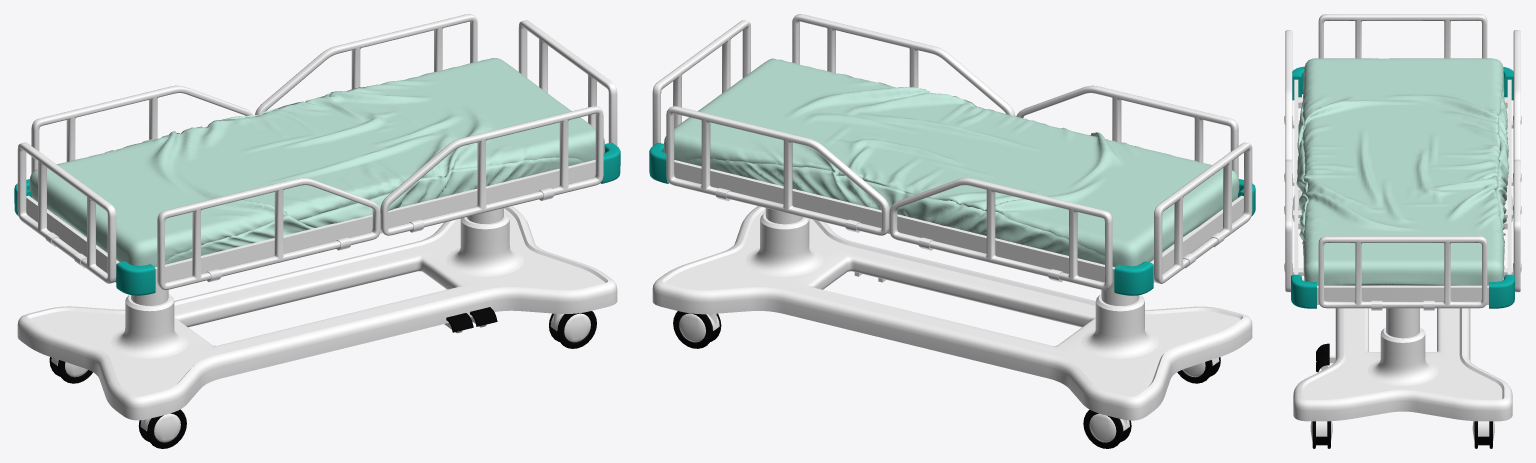
Rendered from hospital_bed_carlos.glb.
3 renders of one model, left to right at view 1: azimuth 30°, elevation 25°; view 2: azimuth 150°, elevation 25°; view 3: azimuth 270°, elevation 25°, orthographic. The views are drawn at different scales.
Visible parts, largest first — view 1: Object_8, Object_4, Object_14, Object_10, Object_18, Object_6, Object_16; view 2: Object_8, Object_4, Object_14, Object_18, Object_10, Object_6, Object_16; view 3: Object_8, Object_4, Object_14, Object_18, Object_6, Object_10, Object_16.
Boxes of the visible parts, left/top/right/bottom form: Object_8: left=29, top=58, right=604, bottom=266; Object_4: left=17, top=143, right=617, bottom=442; Object_14: left=17, top=14, right=617, bottom=289; Object_10: left=49, top=307, right=596, bottom=448; Object_18: left=14, top=142, right=620, bottom=295; Object_6: left=131, top=208, right=503, bottom=305; Object_16: left=45, top=188, right=553, bottom=281; Object_8: left=663, top=58, right=1239, bottom=267; Object_4: left=652, top=143, right=1252, bottom=442; Object_14: left=652, top=14, right=1252, bottom=290; Object_18: left=649, top=142, right=1255, bottom=295; Object_10: left=673, top=311, right=1220, bottom=448; Object_6: left=765, top=208, right=1139, bottom=305; Object_16: left=715, top=188, right=1224, bottom=282; Object_8: left=1296, top=58, right=1509, bottom=285; Object_4: left=1293, top=79, right=1512, bottom=441; Object_14: left=1285, top=14, right=1520, bottom=308; Object_18: left=1291, top=66, right=1514, bottom=308; Object_6: left=1386, top=308, right=1419, bottom=338; Object_10: left=1312, top=343, right=1492, bottom=448; Object_16: left=1284, top=115, right=1521, bottom=310.
Size of the model in its own units: 2.18 by 1.03 by 0.9681.
